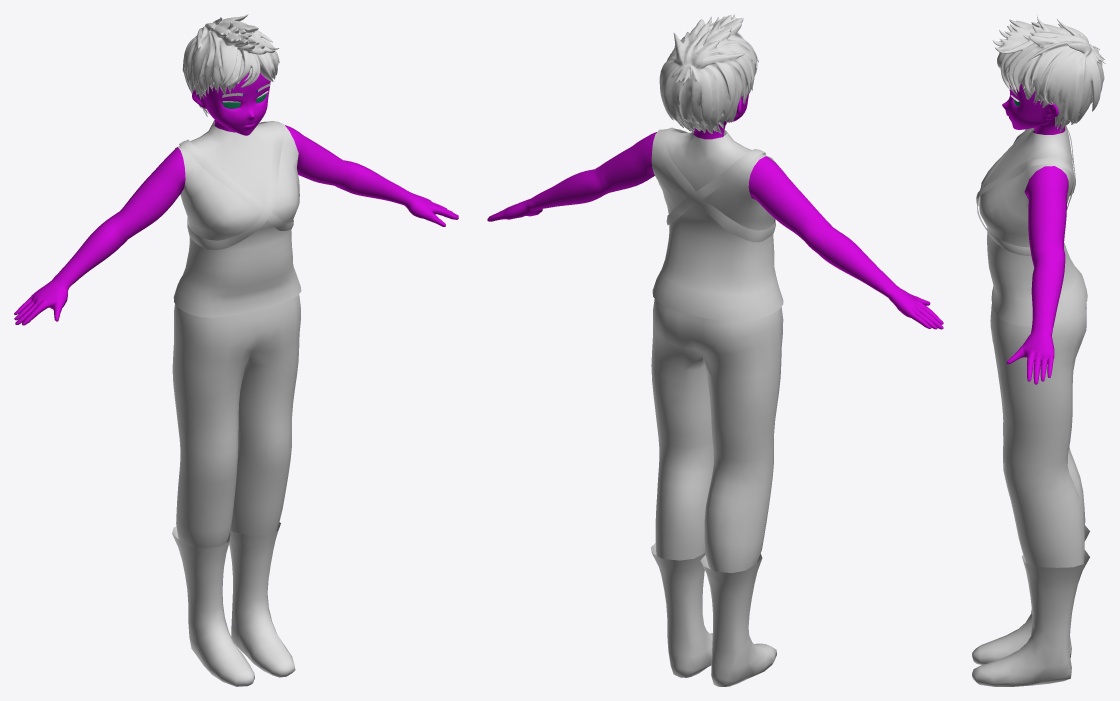
The model's file is character_2.fbx.
3 renders of one model, left to right at view 1: azimuth 30°, elevation 25°; view 2: azimuth 150°, elevation 25°; view 3: azimuth 270°, elevation 25°, orthographic. The views are drawn at different scales.
Parts seen in each view (by area): view 1: Retopo_Pantalon, Retopo_Body Armor.001, Body.001, Retopo_Bottes, Retopo_Hair.001, Retopo_Laniere 1, Retopo_Laniere 2; view 2: Retopo_Pantalon, Retopo_Body Armor.001, Body.001, Retopo_Bottes, Retopo_Hair.001, Retopo_Laniere 1, Retopo_Laniere 2; view 3: Retopo_Pantalon, Retopo_Body Armor.001, Body.001, Retopo_Bottes, Retopo_Hair.001, Retopo_Laniere 1, Retopo_Laniere 2.
Boxes of the visible parts, left/top/right/bottom form: Retopo_Pantalon: left=172, top=295, right=300, bottom=548; Retopo_Body Armor.001: left=173, top=120, right=301, bottom=317; Body.001: left=14, top=72, right=458, bottom=325; Retopo_Bottes: left=172, top=522, right=295, bottom=686; Retopo_Hair.001: left=182, top=14, right=279, bottom=116; Retopo_Laniere 1: left=187, top=121, right=284, bottom=249; Retopo_Laniere 2: left=179, top=139, right=293, bottom=230; Retopo_Pantalon: left=651, top=299, right=783, bottom=572; Retopo_Body Armor.001: left=651, top=129, right=783, bottom=320; Body.001: left=487, top=93, right=943, bottom=329; Retopo_Bottes: left=650, top=543, right=776, bottom=686; Retopo_Hair.001: left=659, top=14, right=758, bottom=133; Retopo_Laniere 1: left=655, top=127, right=775, bottom=242; Retopo_Laniere 2: left=666, top=149, right=765, bottom=225; Retopo_Pantalon: left=990, top=303, right=1086, bottom=567; Retopo_Body Armor.001: left=979, top=126, right=1087, bottom=326; Body.001: left=1002, top=83, right=1068, bottom=384; Retopo_Bottes: left=972, top=525, right=1089, bottom=686; Retopo_Hair.001: left=992, top=15, right=1105, bottom=131; Retopo_Laniere 1: left=976, top=157, right=1075, bottom=206; Retopo_Laniere 2: left=977, top=128, right=1075, bottom=255.
Bounding box in the file's own units: 117 × 162 × 29.93.
